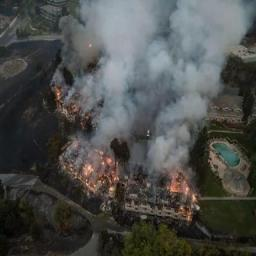Low smoke: (0, 0, 216, 171)
Small fire: (57, 131, 201, 222)
